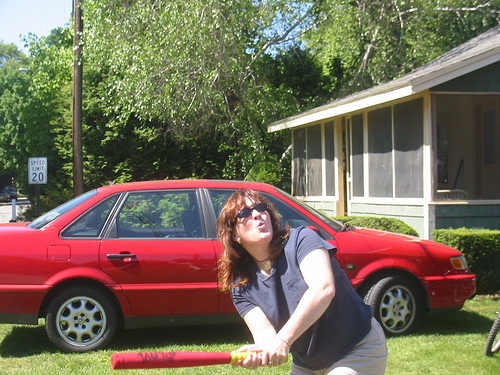without_mask: (225, 198, 277, 262)
